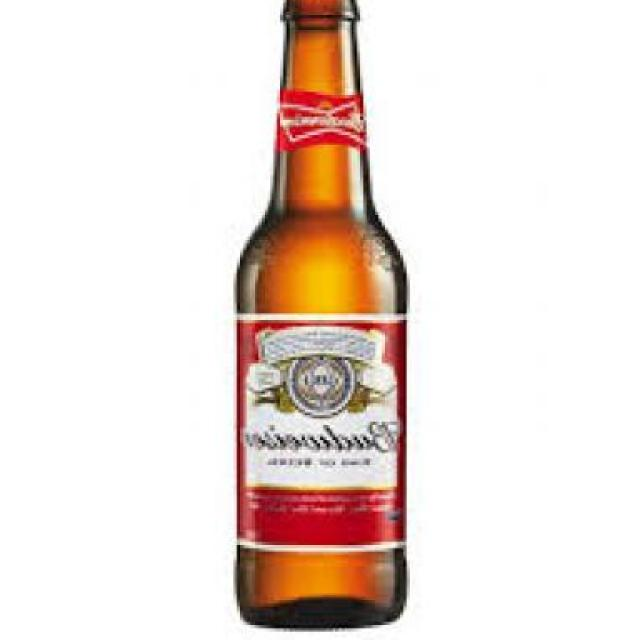kaca: (233, 0, 410, 625)
